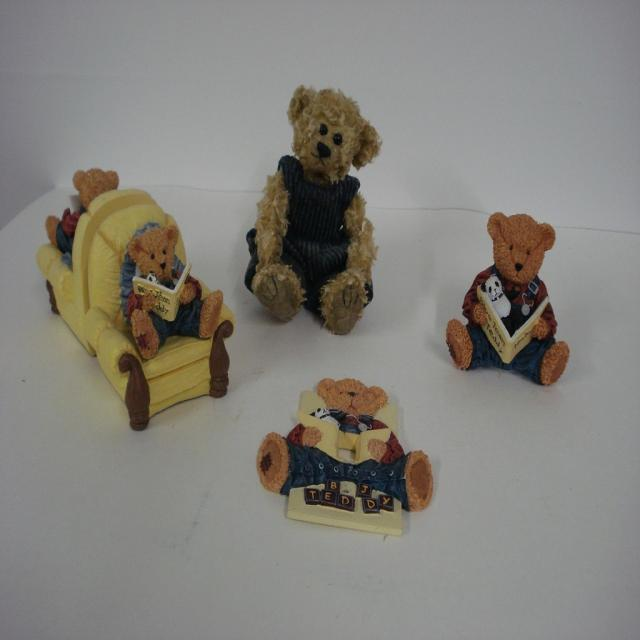Toy: (36, 165, 237, 430)
